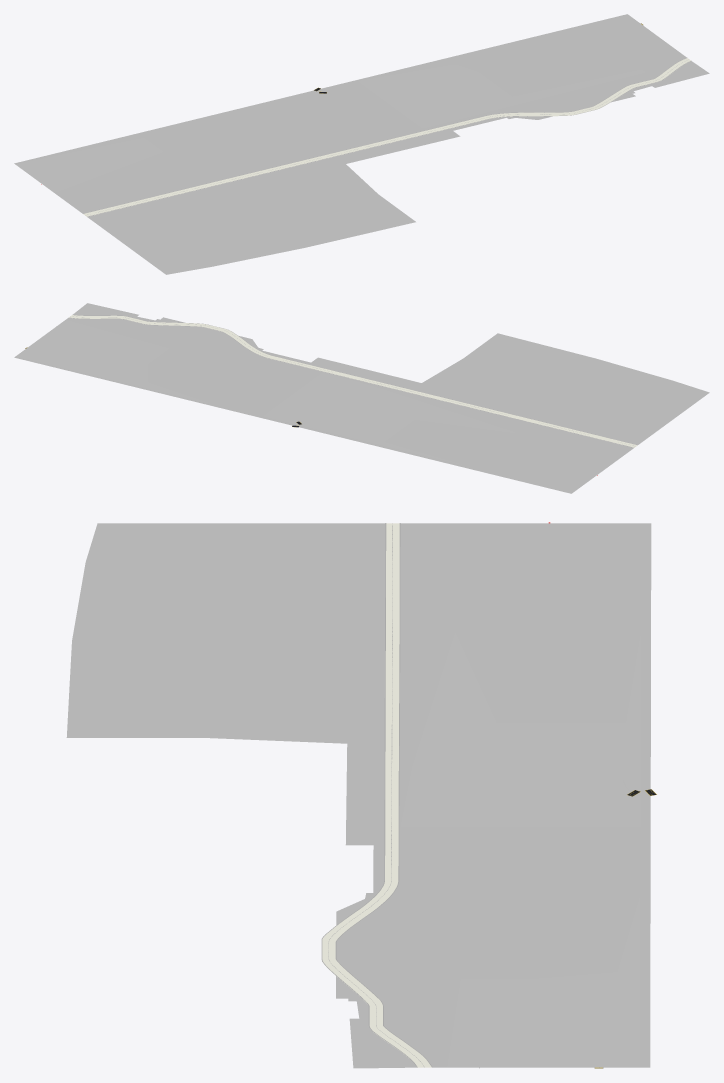
3 views of the same model, one above another, from view 1: azimuth 30°, elevation 25°; view 2: azimuth 150°, elevation 25°; view 3: azimuth 270°, elevation 25° (orthographic). The views are drawn at different scales.
Visible parts, largest first — view 1: SouthApronZ3d, RoadZ3d, WhiteMarkRoadZ3d; view 2: SouthApronZ3d, RoadZ3d, WhiteMarkRoadZ3d; view 3: SouthApronZ3d, RoadZ3d, WhiteMarkRoadZ3d.
Part boxes in pixels (box(x1,y1,x2,y2)): SouthApronZ3d: box(14, 14, 709, 274); RoadZ3d: box(83, 58, 690, 216); WhiteMarkRoadZ3d: box(83, 58, 691, 216); SouthApronZ3d: box(14, 303, 709, 493); RoadZ3d: box(69, 315, 637, 447); WhiteMarkRoadZ3d: box(70, 315, 637, 447); SouthApronZ3d: box(66, 523, 651, 1068); RoadZ3d: box(322, 523, 431, 1067); WhiteMarkRoadZ3d: box(321, 523, 432, 1067).
Bounding box in the file's own units: 75372 × 16 × 34438.
